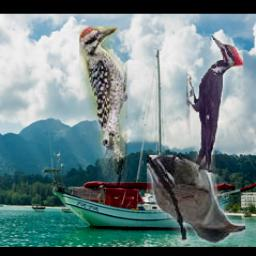Cuckoo: (147, 155, 245, 244)
Woodpecker: (187, 35, 244, 179), (80, 27, 129, 187)
